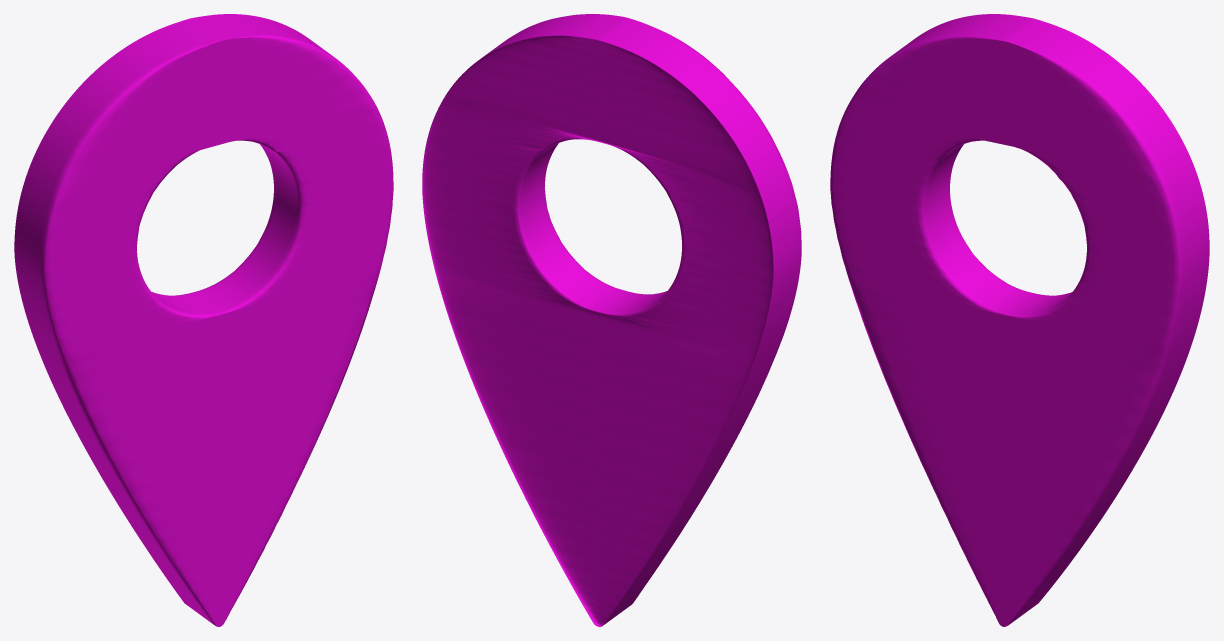
Rendered from purple.gltf.
3 renders of one model, left to right at view 1: azimuth 30°, elevation 25°; view 2: azimuth 150°, elevation 25°; view 3: azimuth 330°, elevation 25°, orthographic.
Parts seen in each view (by area): view 1: Curve_2; view 2: Curve_2; view 3: Curve_2.
Part boxes in pixels (<box>): Curve_2: <box>14,14,393,626</box>; Curve_2: <box>422,14,801,626</box>; Curve_2: <box>830,14,1209,626</box>.
Bounding box in the file's own units: 0.2761 × 0.4404 × 0.0416.
